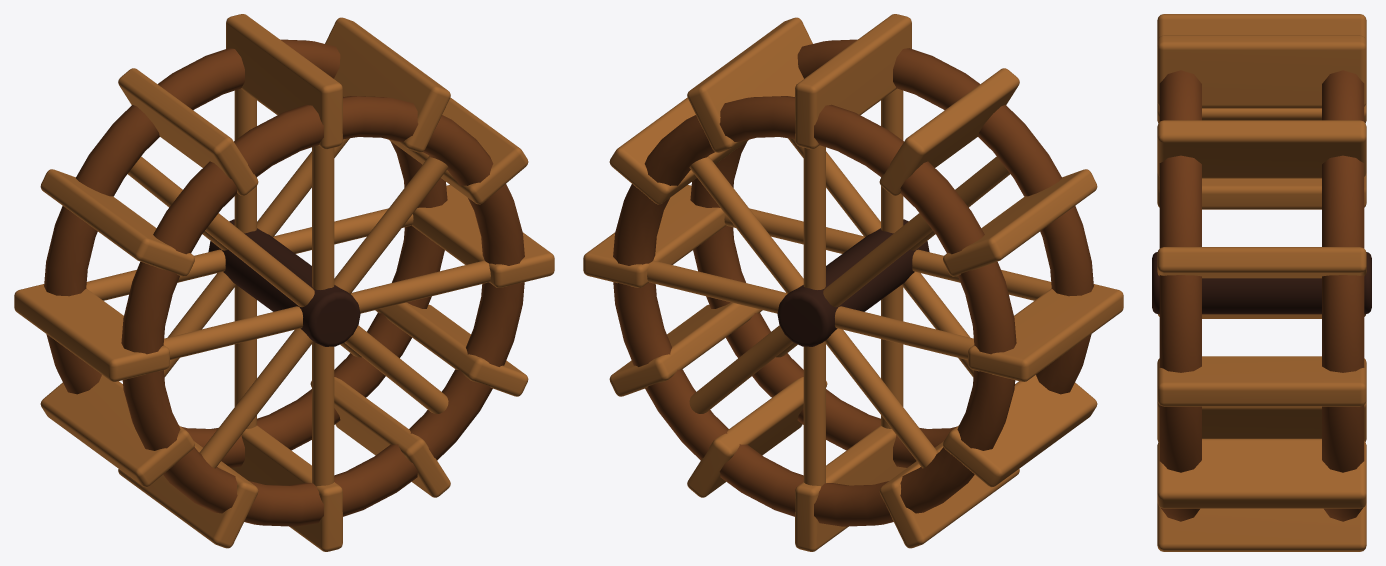
Rendered from water_wheel.glb.
3 views of the same model, side by side, from view 1: azimuth 30°, elevation 25°; view 2: azimuth 150°, elevation 25°; view 3: azimuth 270°, elevation 25° (orthographic). The views are drawn at different scales.
Visible parts, largest first — view 1: waterwheel_rim, waterwheel_rim.001, waterwheel_paddle.003, waterwheel_paddle.006, waterwheel_paddle.007, waterwheel_paddle.002, waterwheel_axis, waterwheel_paddle.004, waterwheel_paddle.005, waterwheel_paddle, waterwheel_paddle.009, waterwheel_paddle.010 (+18 smaller); view 2: waterwheel_rim.001, waterwheel_rim, waterwheel_paddle.003, waterwheel_paddle.006, waterwheel_paddle.007, waterwheel_paddle.002, waterwheel_axis, waterwheel_paddle.004, waterwheel_paddle.005, waterwheel_paddle, waterwheel_paddle.009, waterwheel_paddle.010 (+18 smaller); view 3: waterwheel_rim, waterwheel_rim.001, waterwheel_paddle.003, waterwheel_paddle.011, waterwheel_paddle.002, waterwheel_paddle, waterwheel_paddle.010, waterwheel_paddle.001, waterwheel_axis, waterwheel_paddle.004, waterwheel_paddle.008, waterwheel_paddle.006 (+2 smaller).
Boxes of the visible parts, x1,y1,x2,y2 form: waterwheel_rim: (121,96,524,526); waterwheel_rim.001: (44,39,447,467); waterwheel_paddle.003: (226,14,342,149); waterwheel_paddle.006: (14,284,169,381); waterwheel_paddle.007: (40,375,194,487); waterwheel_paddle.002: (325,17,450,152); waterwheel_axis: (208,219,360,346); waterwheel_paddle.004: (118,68,258,195); waterwheel_paddle.005: (40,169,194,276); waterwheel_paddle: (412,185,554,287); waterwheel_paddle.009: (231,425,342,551); waterwheel_paddle.010: (310,377,450,497); waterwheel_rim.001: (613,96,1016,526); waterwheel_rim: (690,39,1093,467); waterwheel_paddle.003: (795,14,911,149); waterwheel_paddle.006: (968,284,1123,381); waterwheel_paddle.007: (943,375,1097,487); waterwheel_paddle.002: (687,17,812,152); waterwheel_axis: (777,219,929,346); waterwheel_paddle.004: (879,68,1019,195); waterwheel_paddle.005: (943,169,1097,276); waterwheel_paddle: (583,185,725,287); waterwheel_paddle.009: (795,425,906,551); waterwheel_paddle.010: (687,377,827,497); waterwheel_rim: (1159,70,1201,521); waterwheel_rim.001: (1322,70,1364,521); waterwheel_paddle.003: (1157,35,1366,108); waterwheel_paddle.011: (1157,438,1366,508); waterwheel_paddle.002: (1157,120,1366,178); waterwheel_paddle: (1157,356,1366,406); waterwheel_paddle.010: (1157,503,1366,551); waterwheel_paddle.001: (1157,247,1366,278); waterwheel_axis: (1152,252,1371,314); waterwheel_paddle.004: (1157,14,1366,40); waterwheel_paddle.008: (1157,401,1366,441); waterwheel_paddle.006: (1157,173,1366,209).
Size of the model in its own units: 2.06 by 2.06 by 0.84.
